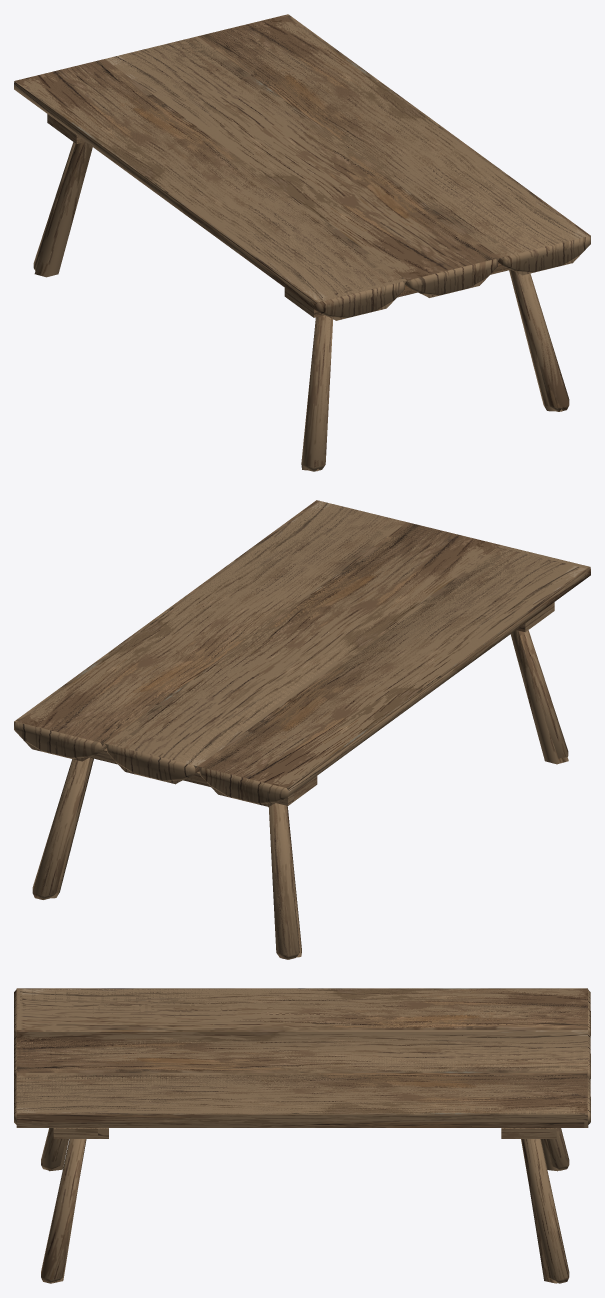
Rendered from stolek2.FBX.
3 views of the same model, one above another, from view 1: azimuth 30°, elevation 25°; view 2: azimuth 150°, elevation 25°; view 3: azimuth 270°, elevation 25° (orthographic). The views are drawn at different scales.
Visible parts, largest first — view 1: stolek2_LOD3, stolek2_LOD2, stolek2_LOD1; view 2: stolek2_LOD3, stolek2_LOD1, stolek2_LOD2; view 3: stolek2_LOD2, stolek2_LOD1, stolek2_LOD3.
Part boxes in pixels (left/top/right/bottom): stolek2_LOD3: left=14, top=15, right=590, bottom=471; stolek2_LOD2: left=14, top=14, right=590, bottom=471; stolek2_LOD1: left=14, top=17, right=590, bottom=471; stolek2_LOD3: left=14, top=500, right=590, bottom=957; stolek2_LOD1: left=14, top=501, right=590, bottom=959; stolek2_LOD2: left=14, top=500, right=590, bottom=959; stolek2_LOD2: left=16, top=988, right=588, bottom=1283; stolek2_LOD1: left=14, top=989, right=590, bottom=1276; stolek2_LOD3: left=16, top=988, right=587, bottom=1283.
Size of the model in its own units: 31.04 by 19.69 by 59.93.
